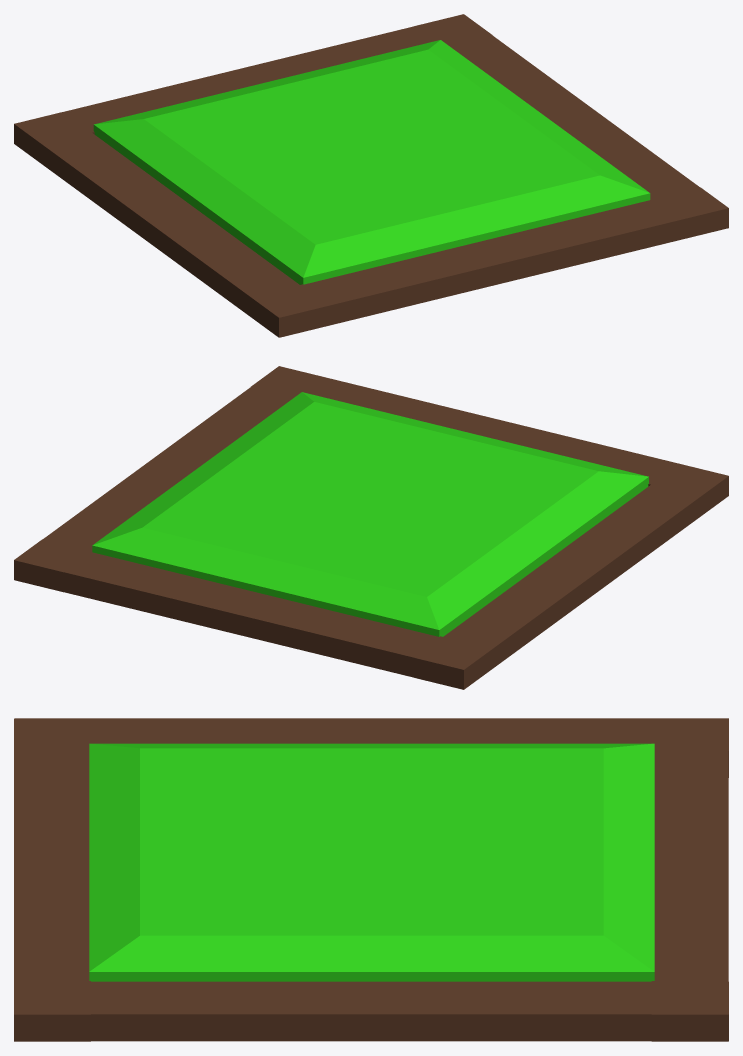
File: pressure plate.fbx
The picture shows the model from 3 angles, top to bottom: view 1: azimuth 30°, elevation 25°; view 2: azimuth 150°, elevation 25°; view 3: azimuth 270°, elevation 25°; orthographic projection. The views are drawn at different scales.
Visible parts, largest first — view 1: pCube7, pCube8; view 2: pCube7, pCube8; view 3: pCube7, pCube8.
Boxes of the visible parts, x1,y1,x2,y2 form: pCube7: (93, 40, 650, 284); pCube8: (14, 14, 728, 337); pCube7: (92, 392, 648, 636); pCube8: (14, 366, 728, 689); pCube7: (89, 743, 654, 981); pCube8: (14, 718, 728, 1041).
Bounding box in the file's own units: 4.3 × 0.3517 × 4.39.
